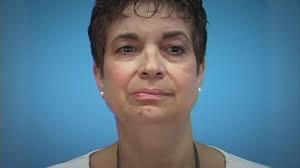strokeEyeWeak: (112, 33, 190, 59)
strokeMouthWeak: (127, 86, 176, 102)
